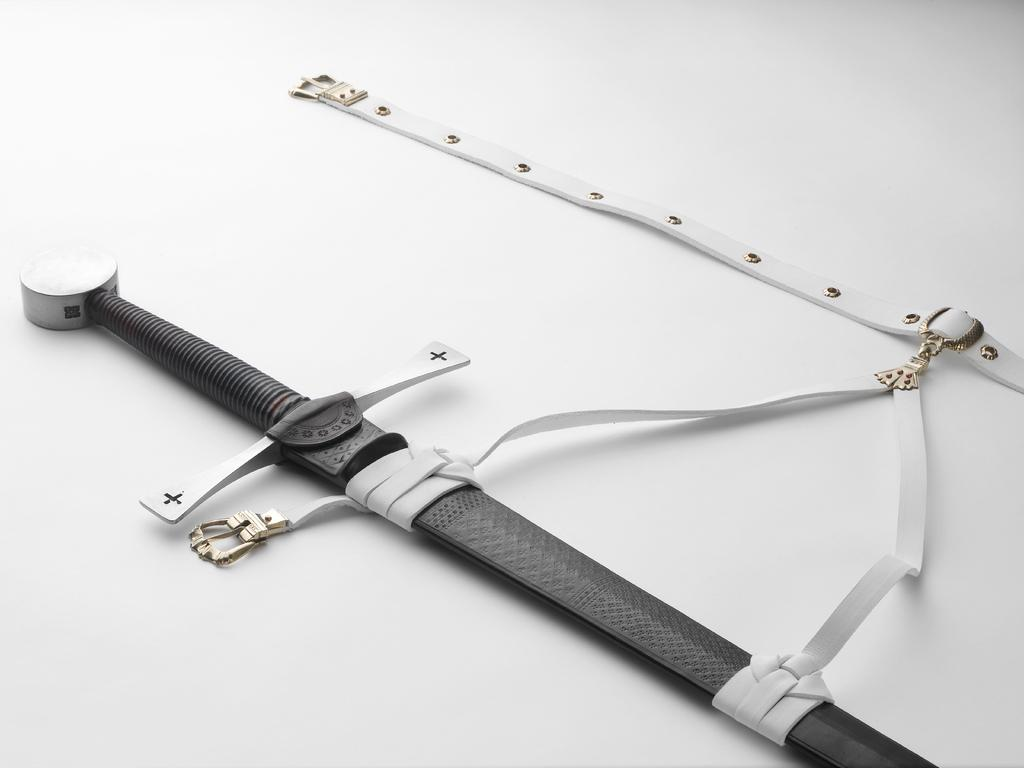Sword: (20, 244, 938, 767)
